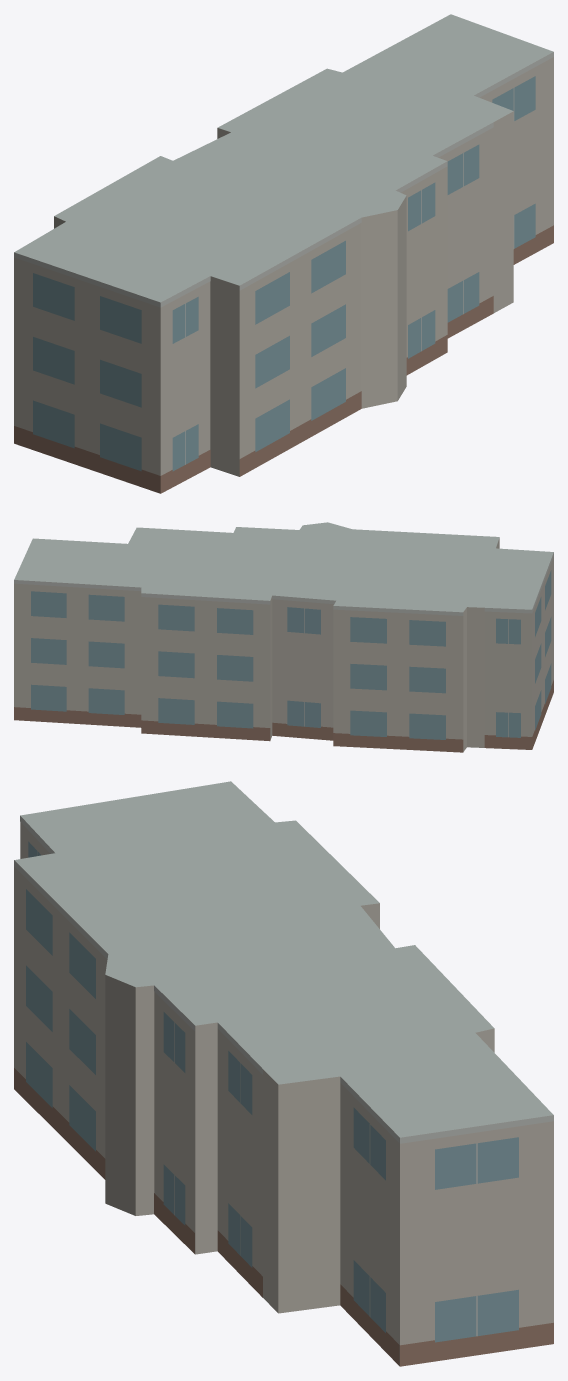
Rendered from survey-upis-32466691.glb.
3 renders of one model, top to bottom at view 1: azimuth 30°, elevation 25°; view 2: azimuth 150°, elevation 25°; view 3: azimuth 270°, elevation 25°, orthographic. The views are drawn at different scales.
Visible parts, largest first — view 1: survey-upis-32466691.tmp; view 2: survey-upis-32466691.tmp; view 3: survey-upis-32466691.tmp.
Boxes of the visible parts, x1,y1,x2,y2 form: survey-upis-32466691.tmp: [14, 14, 553, 493]; survey-upis-32466691.tmp: [14, 522, 553, 752]; survey-upis-32466691.tmp: [14, 781, 553, 1366].
Bounding box in the file's own units: 30.57 × 9.15 × 19.57.
